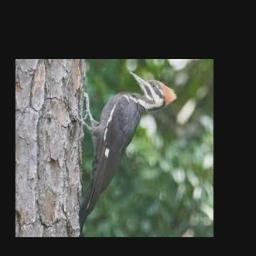Woodpecker: (77, 72, 178, 235)
